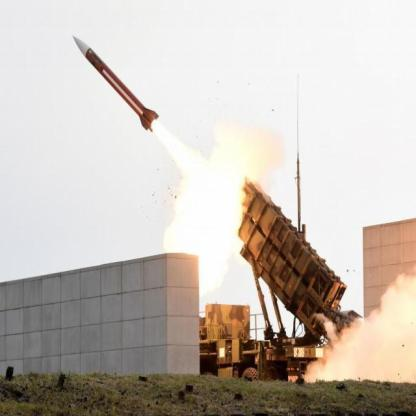MIL_TBM: (65, 30, 157, 136)
